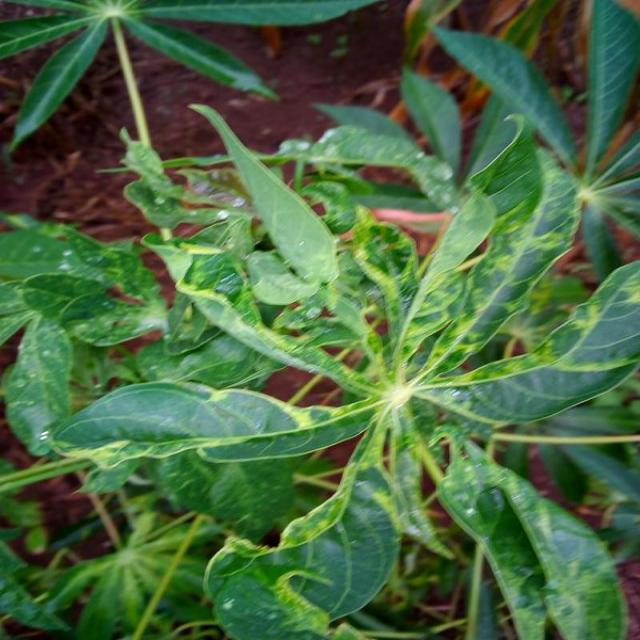cassava leaf: (7, 3, 638, 637)
